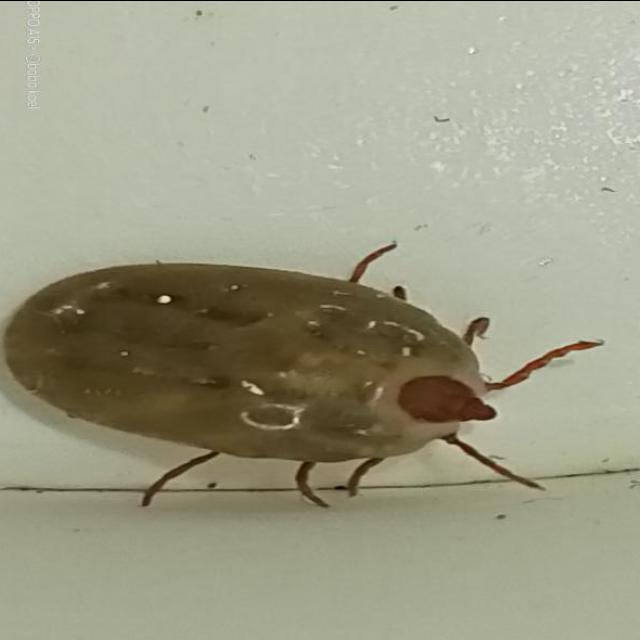Rhipicephalus Sanguineus-F-Fed: (0, 246, 604, 510)
